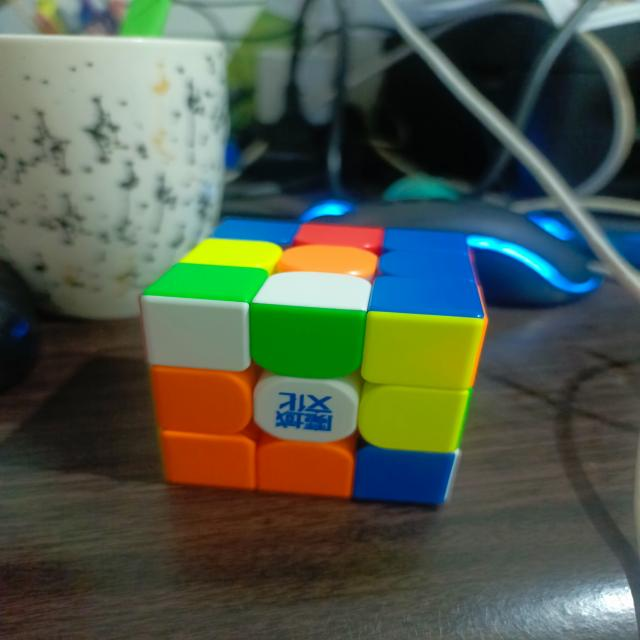rubik: (138, 215, 489, 506)
